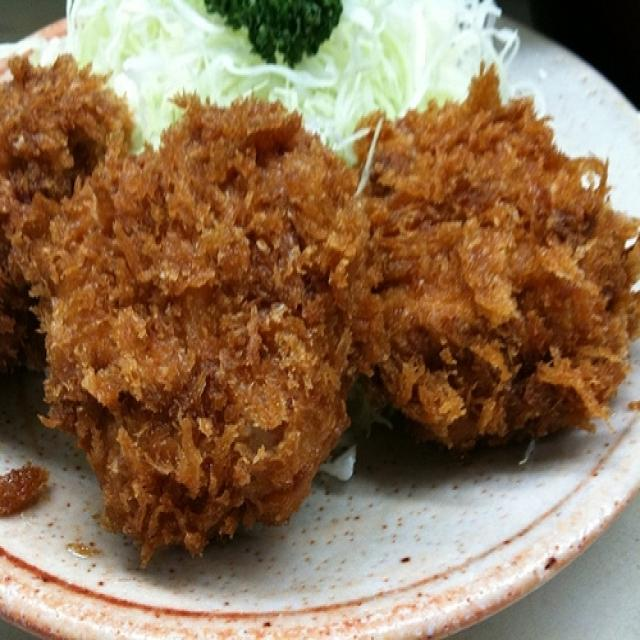牛肉菜式: (16, 20, 624, 598)
